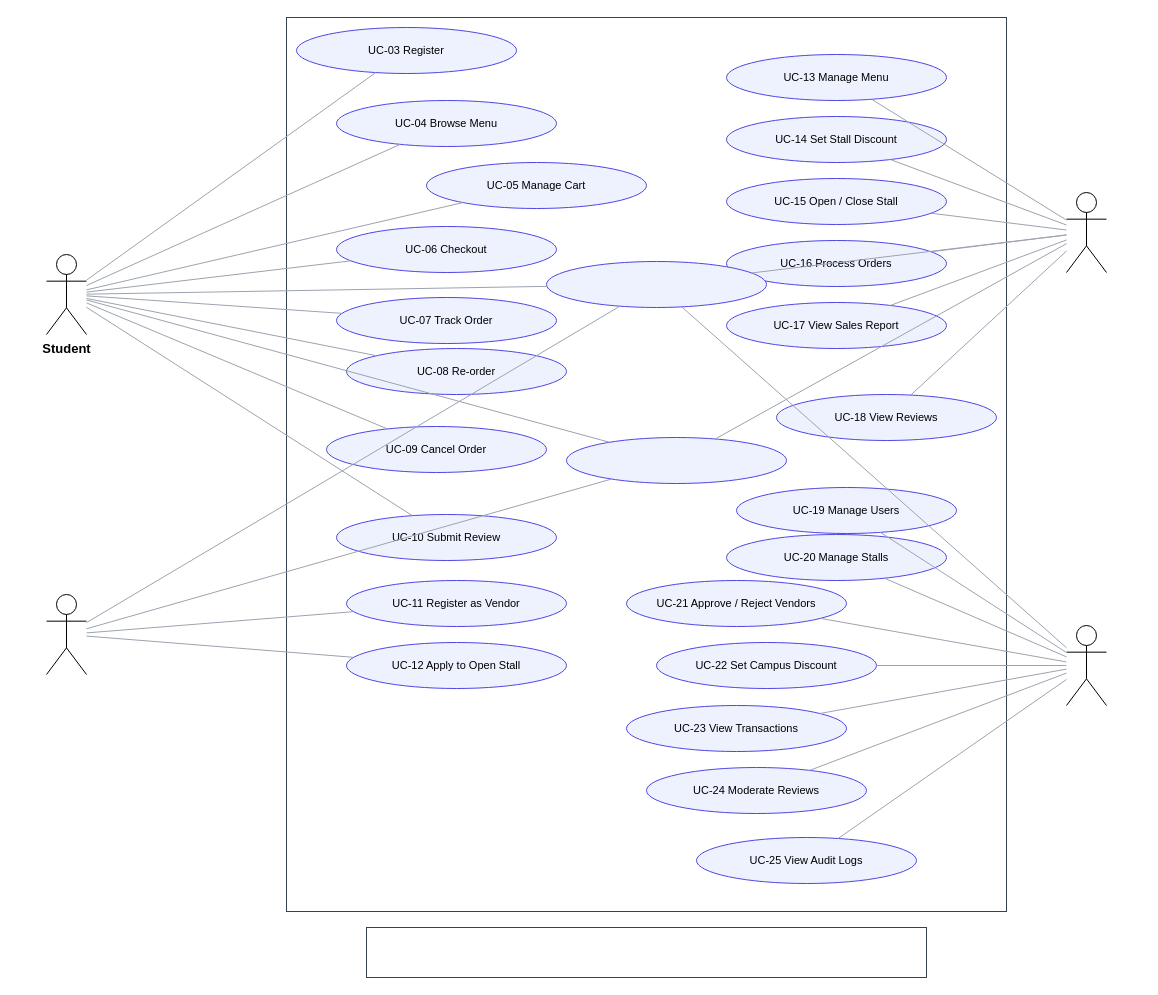
Some shapes in this 1158 by 995 pixel diagram are drawn without their labels. Here are the shapes that lost their labels. From the top down, the centre of each, then its label:
(1086,232): Approved Vendor
(656,284): UC-01 Log in / Log out
(676,460): UC-02 Manage Profile
(66,634): Pending Vendor
(1086,665): Superadmin
(646,952): Use Case Diagram of E-Canteen System
